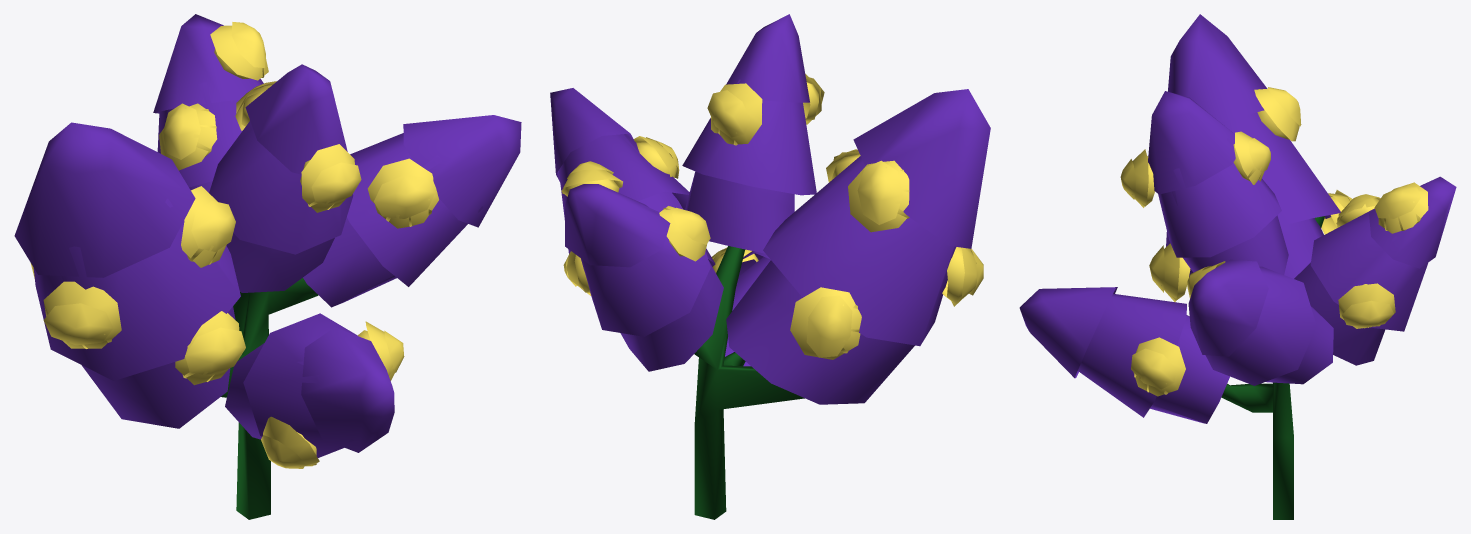
Rendered from Colored Plant (1).fbx.
The picture shows the model from 3 angles, left to right: view 1: azimuth 30°, elevation 25°; view 2: azimuth 150°, elevation 25°; view 3: azimuth 270°, elevation 25°; orthographic projection. The views are drawn at different scales.
Visible parts, largest first — view 1: Cube.019; view 2: Cube.019; view 3: Cube.019.
Part boxes in pixels (left/top/right/bottom): Cube.019: left=14, top=14, right=521, bottom=519; Cube.019: left=550, top=14, right=990, bottom=519; Cube.019: left=1019, top=14, right=1456, bottom=519.
Size of the model in its own units: 499 by 495 by 469.
